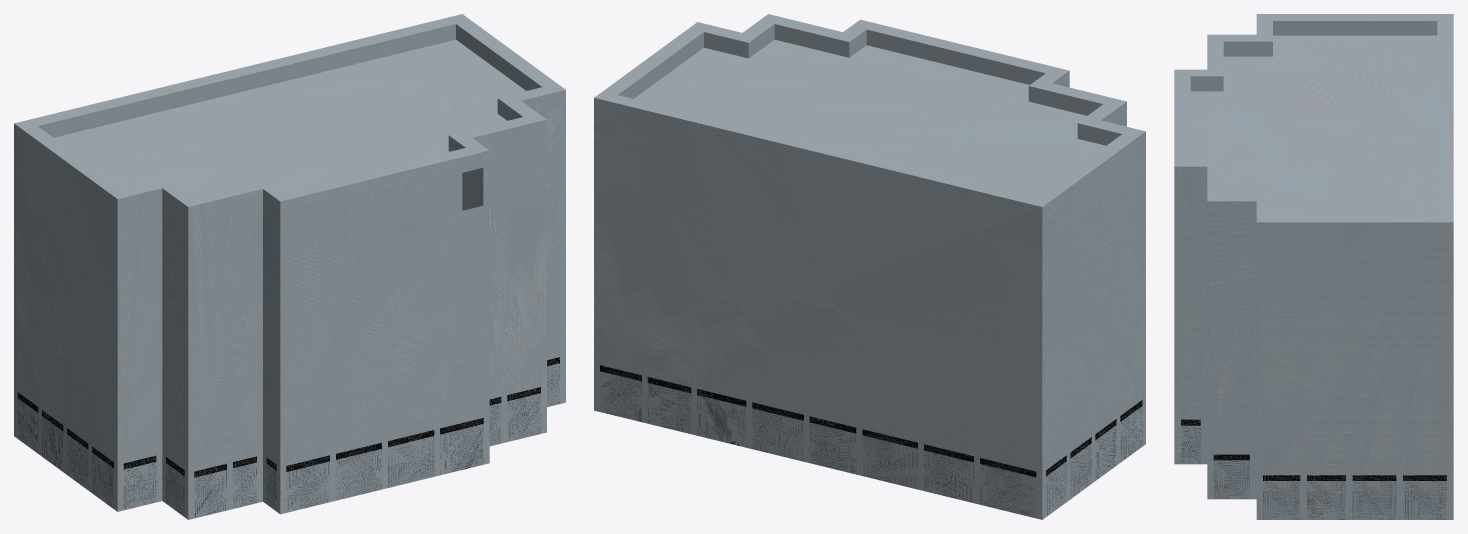
File: budova1.obj
The picture shows the model from 3 angles, left to right: view 1: azimuth 30°, elevation 25°; view 2: azimuth 150°, elevation 25°; view 3: azimuth 270°, elevation 25°; orthographic projection. The views are drawn at different scales.
Parts seen in each view (by area): view 1: Mesh1 budova1_1 Model; view 2: Mesh1 budova1_1 Model; view 3: Mesh1 budova1_1 Model.
Part boxes in pixels (bbox=[...]): Mesh1 budova1_1 Model: bbox=[14, 14, 565, 519]; Mesh1 budova1_1 Model: bbox=[594, 14, 1145, 519]; Mesh1 budova1_1 Model: bbox=[1174, 14, 1453, 519].
Bounding box in the file's own units: 15 × 10 × 8.5.
6 materials, 1 textured.
